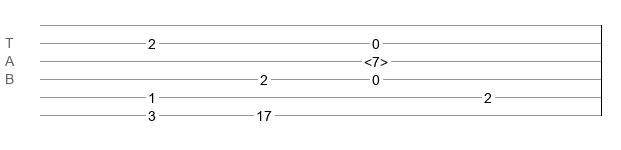0: (372, 36, 380, 46), (372, 72, 380, 82)
1: (148, 90, 156, 100)
17: (256, 108, 272, 118)
2: (148, 36, 156, 46), (260, 72, 268, 82), (484, 90, 492, 100)
3: (148, 108, 156, 118)
harmonic: (364, 54, 388, 64)
